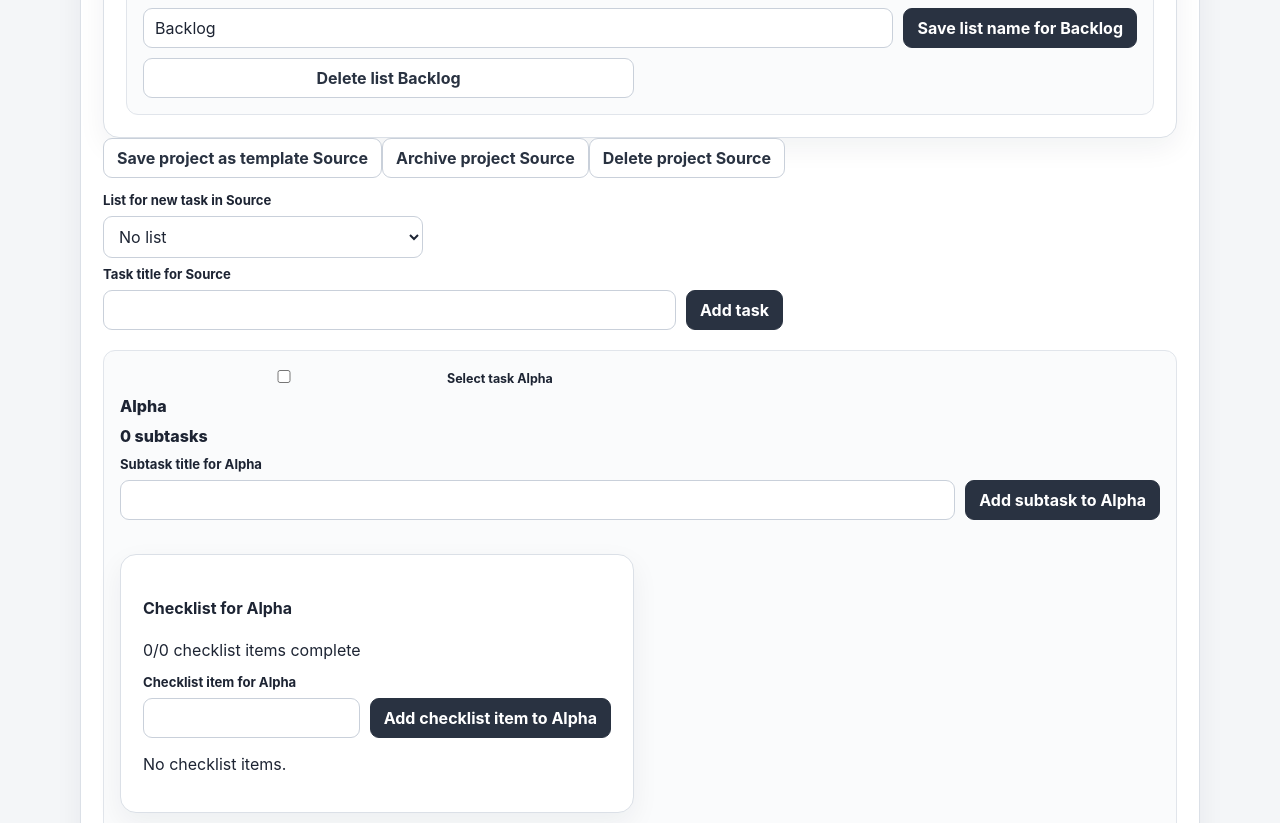
WorkspaceRoot bulk Project movement › moves selected visible Tasks to one Project and clears incompatible Lists
(page scrolled)
Click the checkbox labelled "Select task Alpha" at (284, 377), box [124,370,444,383]
(page scrolled)
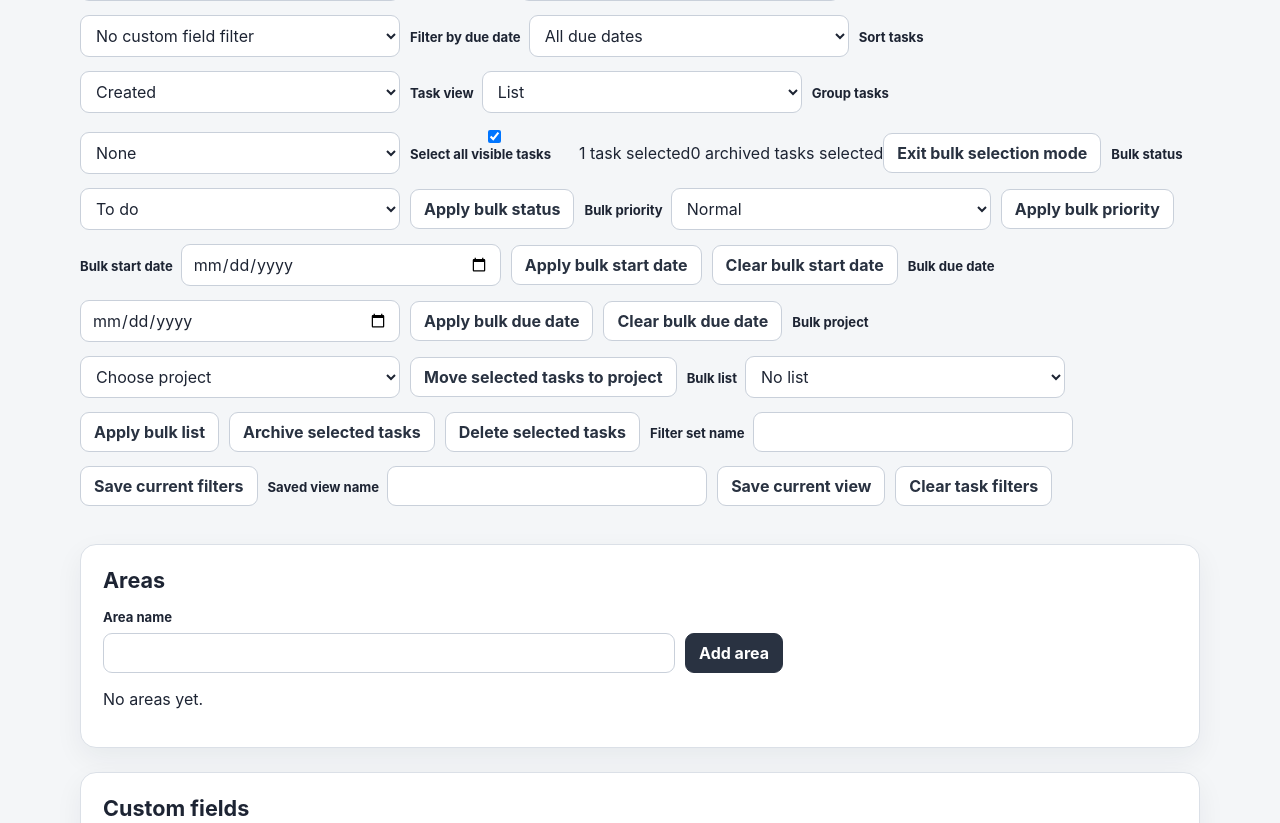
Select "Target" in the dropdown labelled "Bulk project" at (240, 377), box [80,356,400,398]
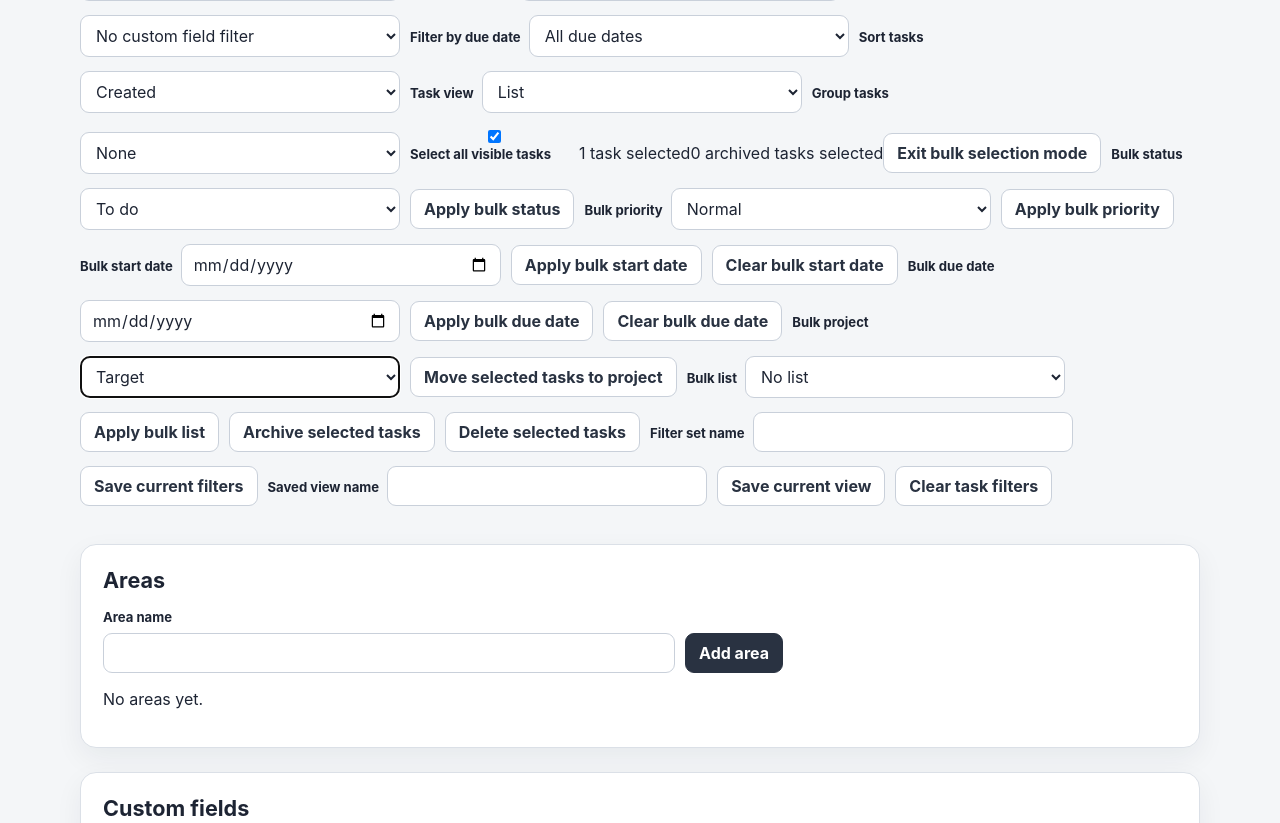
Click the button "Move selected tasks to project" at (543, 377), box [410,357,677,397]
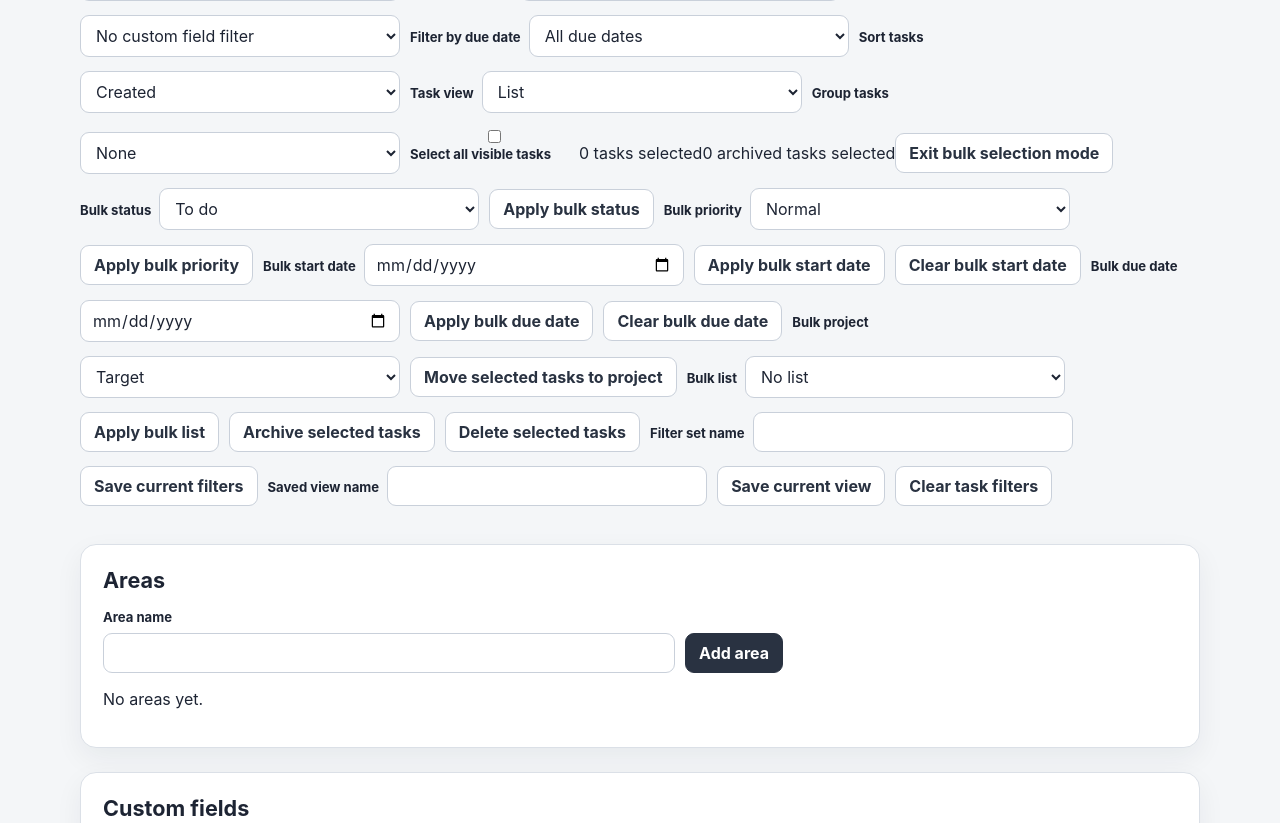
Expected: the text "0 tasks selected" is shown, [579,143,702,163]
